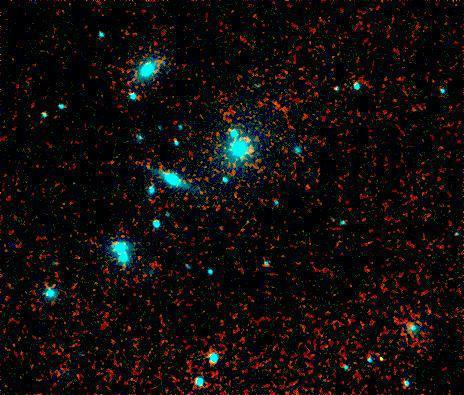star: (365, 344, 395, 374)
